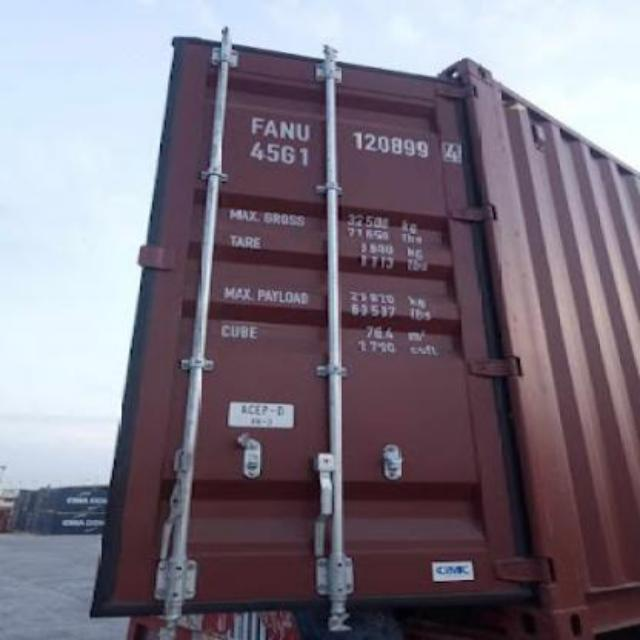0: (378, 128, 390, 156)
1: (352, 122, 362, 152)
2: (362, 124, 378, 152)
4: (442, 138, 462, 166)
8: (390, 130, 402, 158)
9: (416, 134, 429, 162), (402, 132, 414, 158)
A: (264, 110, 278, 140)
F: (246, 110, 262, 138)
N: (279, 117, 295, 143)
U: (294, 116, 310, 142)
